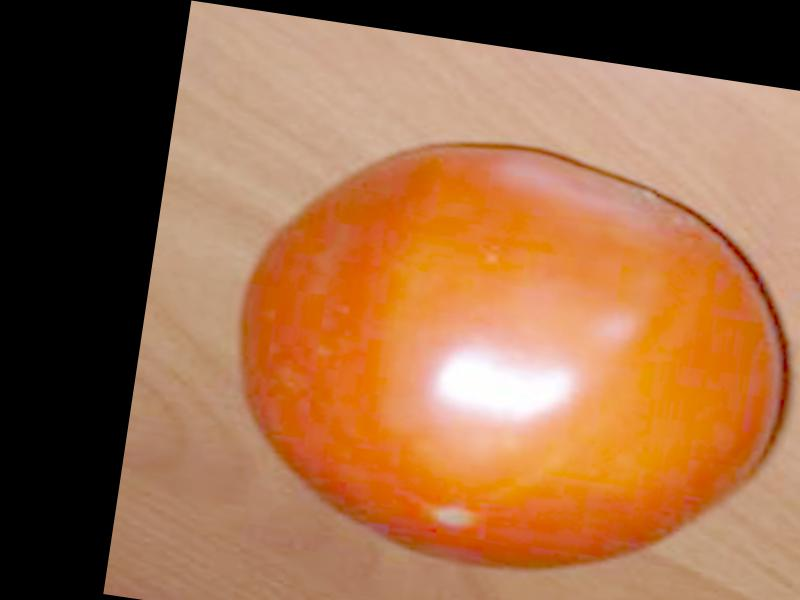Tomato: (203, 112, 800, 600)
